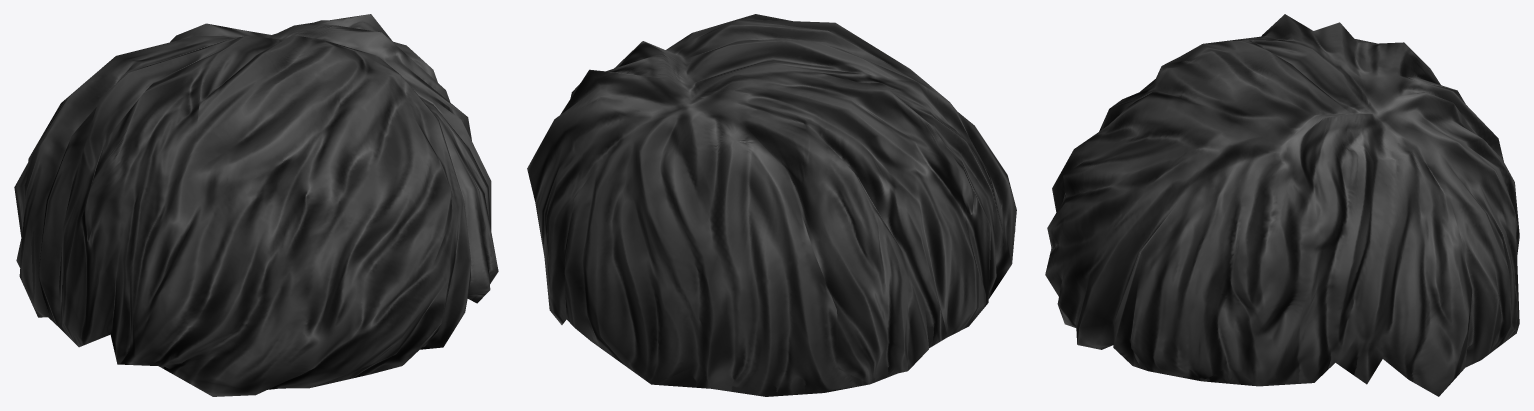
The model's file is AF_M_hair_22.fbx.
3 renders of one model, left to right at view 1: azimuth 30°, elevation 25°; view 2: azimuth 150°, elevation 25°; view 3: azimuth 270°, elevation 25°, orthographic. The views are drawn at different scales.
Visible parts, largest first — view 1: AF_M_hair_22; view 2: AF_M_hair_22; view 3: AF_M_hair_22.
Part boxes in pixels (bbox=[...]): AF_M_hair_22: bbox=[14, 14, 498, 396]; AF_M_hair_22: bbox=[527, 14, 1016, 396]; AF_M_hair_22: bbox=[1045, 14, 1519, 396].
Bounding box in the file's own units: 729 × 455 × 717.
